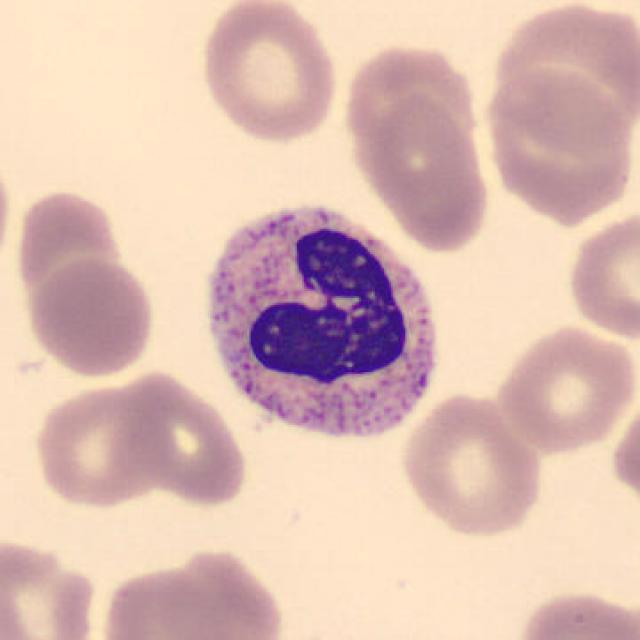Neutrophil: (194, 192, 453, 458)
RBC: (478, 63, 636, 224), (350, 90, 494, 256), (397, 390, 548, 541), (486, 0, 638, 150), (195, 0, 341, 146), (108, 366, 250, 509), (26, 374, 172, 511), (492, 321, 636, 455), (96, 546, 288, 640), (342, 44, 477, 172), (10, 185, 130, 326), (22, 256, 158, 380), (0, 530, 101, 640), (563, 206, 640, 342), (511, 585, 636, 640), (608, 391, 638, 515), (0, 146, 14, 284)
